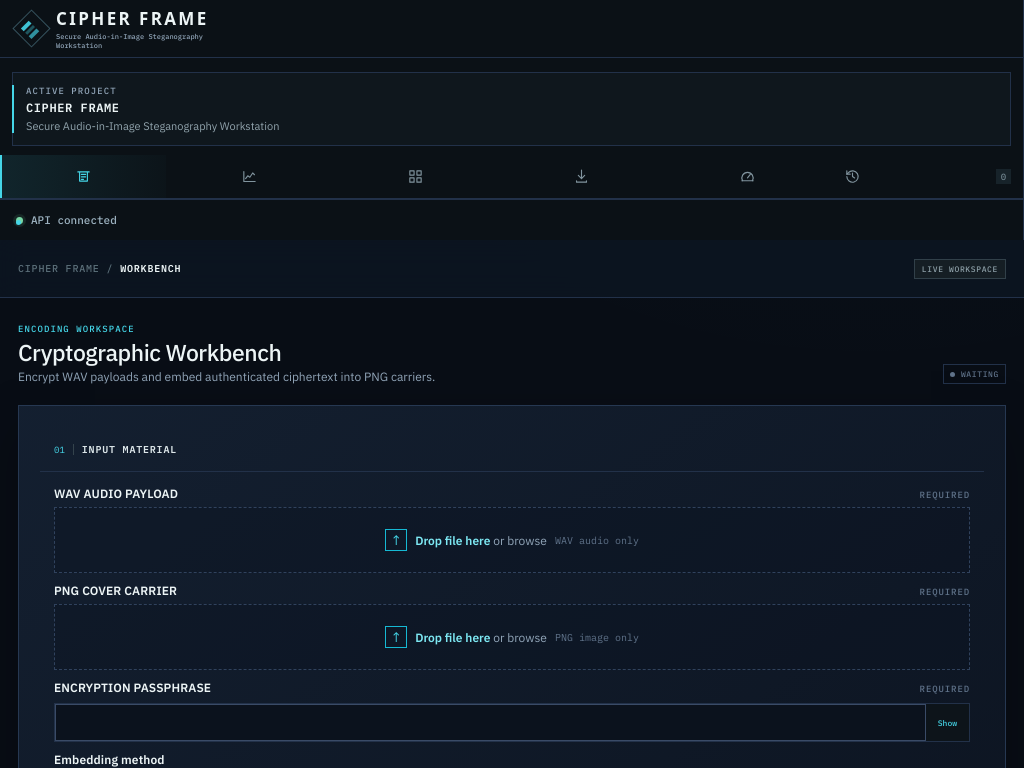
Scenario: Cipher Frame workspace › shows an image-selection prompt instead of a dashboard return screen when no image exists
Click the button named "Histogram Analysis" at (249, 176), box [166,155,332,198]
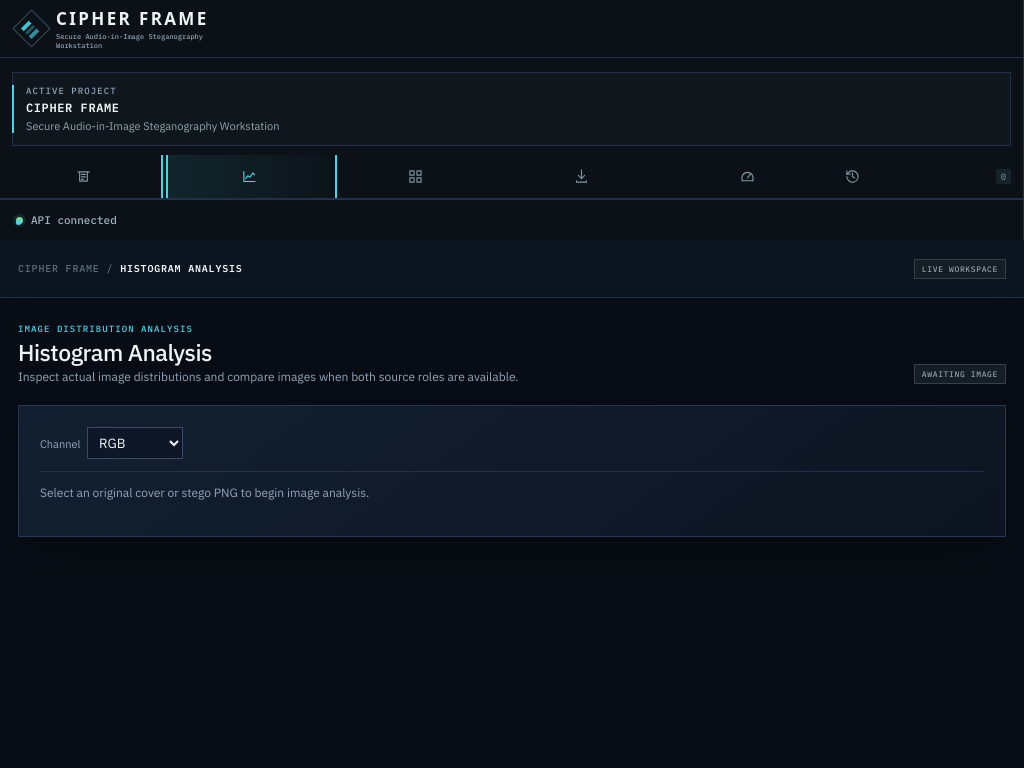
Expected: the text "Select an original cover or stego PNG to begin image analysis." is shown, [40,485,369,500]
Click the button named "Pixel Lab" at (415, 176), box [332,155,498,198]
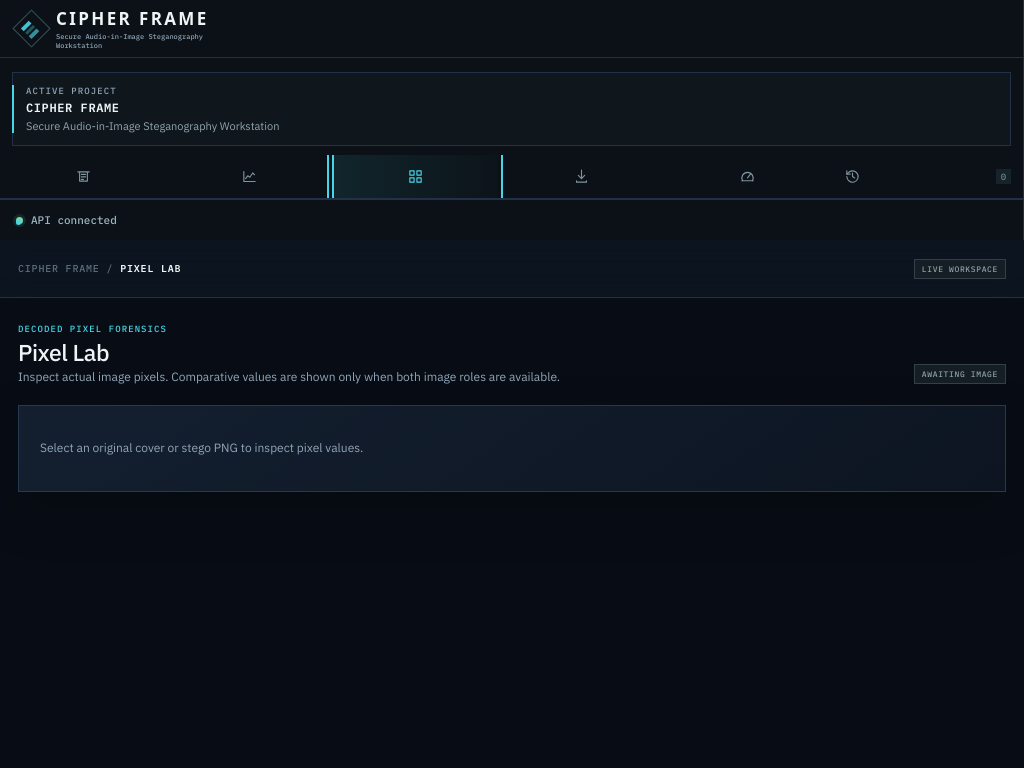
Expected: the text "Select an original cover or stego PNG to inspect pixel values." is shown, [40,440,363,455]
